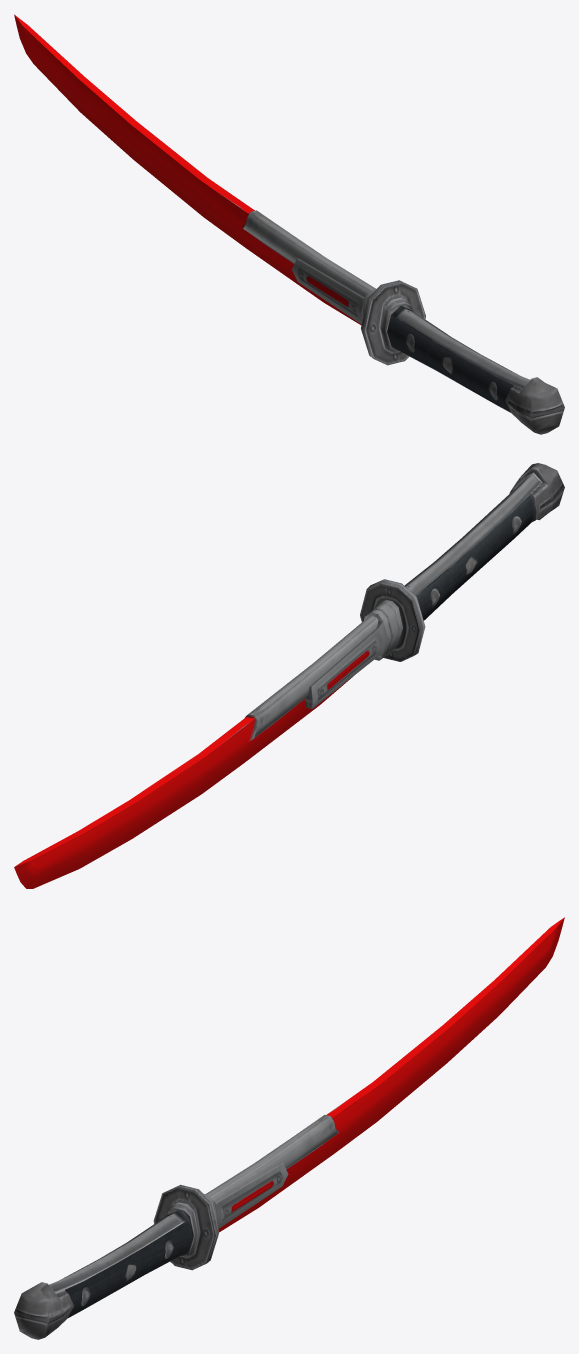
File: Sword_Default.fbx
The picture shows the model from 3 angles, top to bottom: view 1: azimuth 30°, elevation 25°; view 2: azimuth 150°, elevation 25°; view 3: azimuth 330°, elevation 25°; orthographic projection.
Parts seen in each view (by area): view 1: Sword_Default; view 2: Sword_Default; view 3: Sword_Default.
Part boxes in pixels (x1,y1,x2,y2): Sword_Default: [14, 14, 564, 434]; Sword_Default: [14, 463, 564, 888]; Sword_Default: [14, 917, 564, 1339].
Bounding box in the file's own units: 31.19 × 41.95 × 469.
